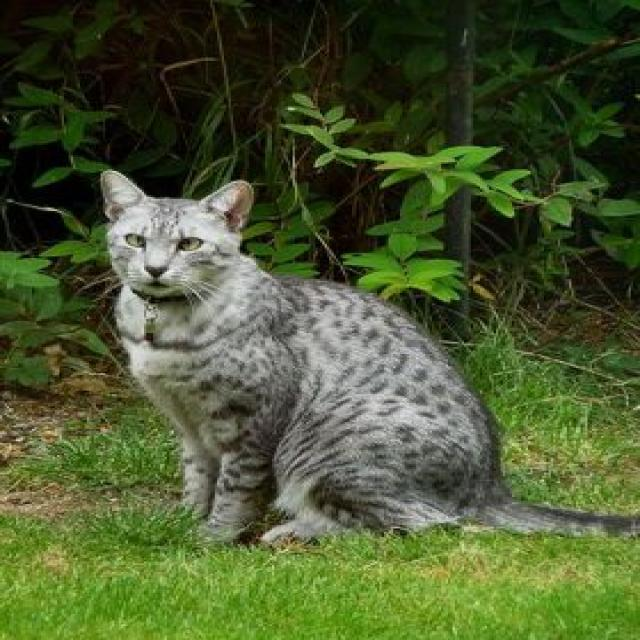Egyptian_Mau: (85, 161, 255, 305)
